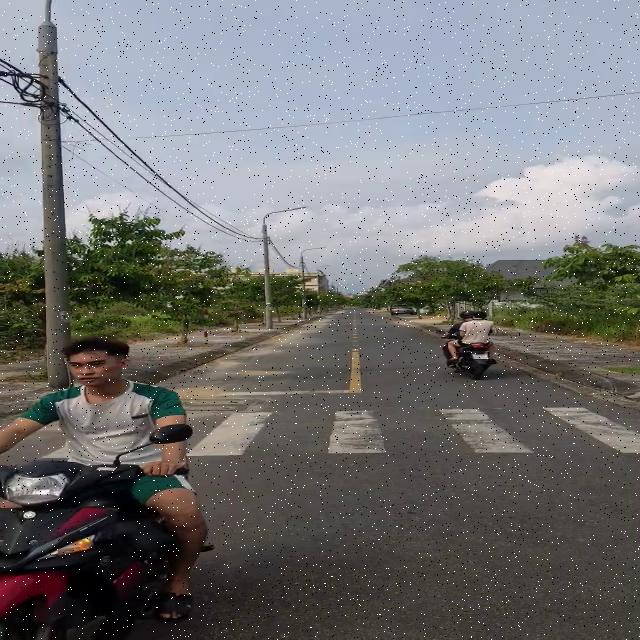helmet: (459, 310, 474, 320)
no_helmet: (61, 335, 136, 390)
